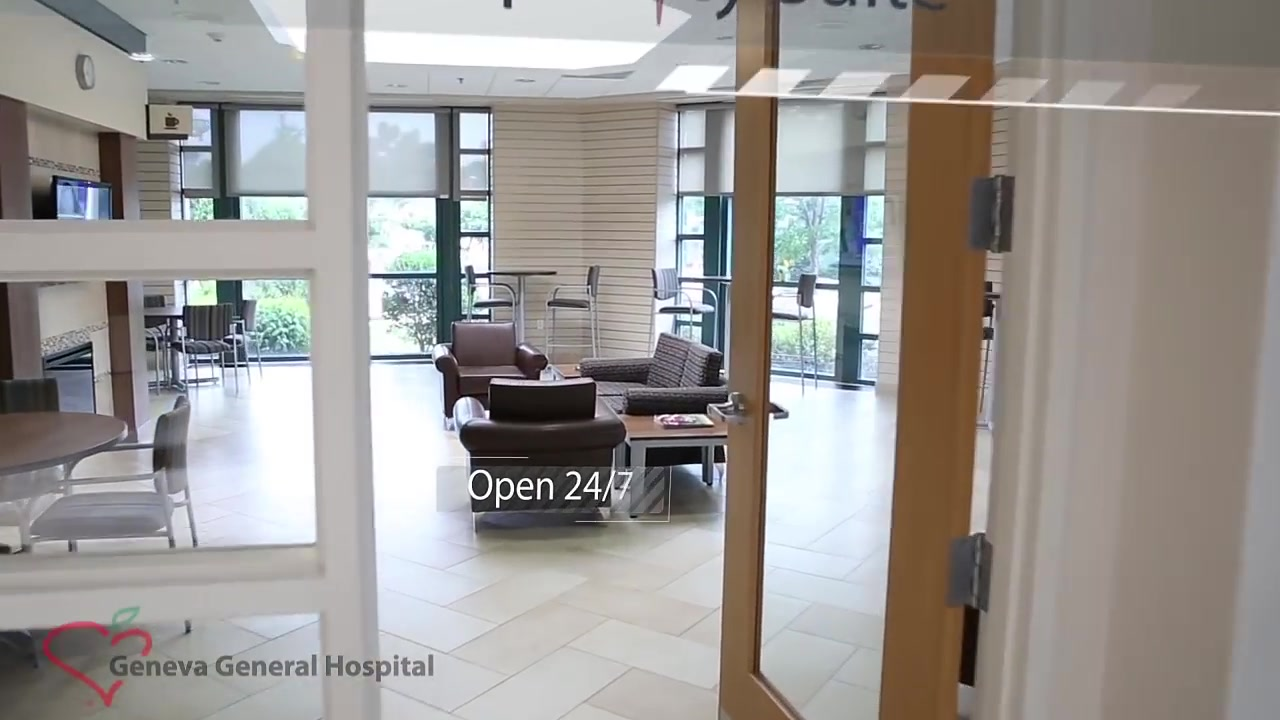TV: (49, 175, 114, 220)
chair: (30, 395, 200, 552), (650, 267, 718, 371), (164, 303, 238, 394), (545, 264, 600, 368), (773, 273, 817, 398), (211, 297, 265, 389), (464, 265, 518, 323)
door_handle: (705, 394, 744, 426), (768, 402, 789, 420)
sofa: (459, 379, 626, 533), (581, 331, 729, 414), (432, 322, 549, 420)
table: (615, 413, 727, 519), (1, 412, 128, 477), (144, 305, 220, 392), (487, 270, 558, 343)
